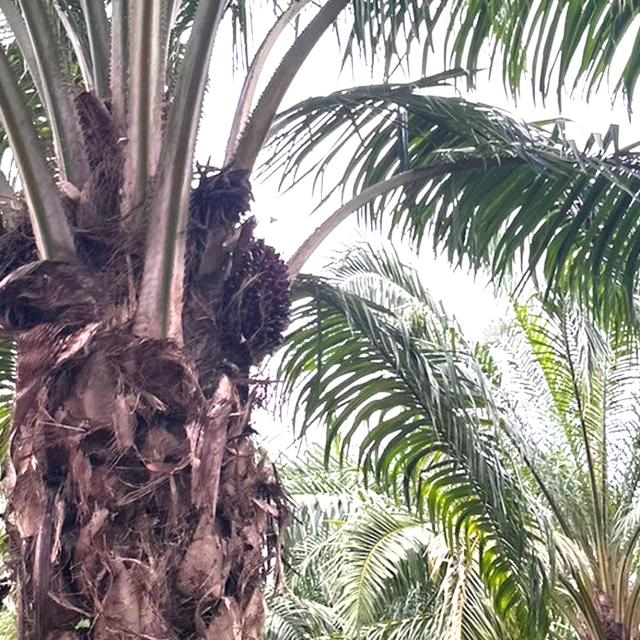ripe: (226, 225, 301, 362)
